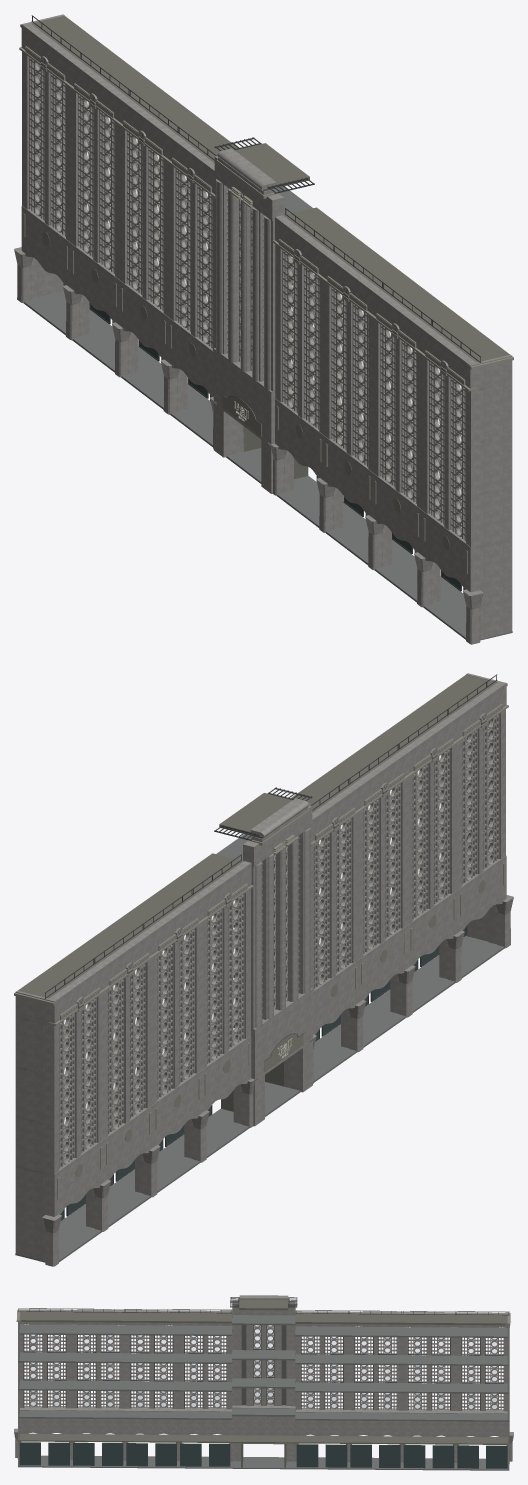
Rendered from hongkou-1933-slaughterhouse-west-concrete-screen-raw.glb.
3 views of the same model, one above another, from view 1: azimuth 30°, elevation 25°; view 2: azimuth 150°, elevation 25°; view 3: azimuth 270°, elevation 25° (orthographic). The views are drawn at different scales.
Parts seen in each view (by area): view 1: 1933老场坊西立面圆环花格窗; view 2: 1933老场坊西立面圆环花格窗; view 3: 1933老场坊西立面圆环花格窗.
Boxes of the visible parts, x1,y1,x2,y2 form: 1933老场坊西立面圆环花格窗: (14,14,513,644); 1933老场坊西立面圆环花格窗: (14,673,513,1266); 1933老场坊西立面圆环花格窗: (14,1295,513,1470).
Bounding box in the file's own units: 4.62 × 22.5 × 62.94.
13 materials, 1 textured.
